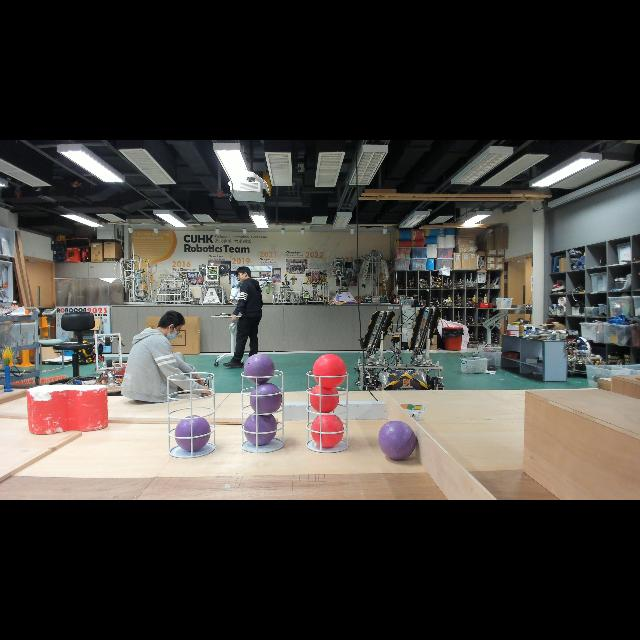P: (378, 421, 416, 461), (175, 415, 211, 451), (244, 411, 276, 445), (250, 382, 282, 416), (243, 354, 274, 384)
R: (313, 354, 347, 388), (311, 414, 344, 448), (310, 384, 338, 414)
S: (167, 372, 217, 460), (240, 368, 286, 454), (306, 369, 350, 453)
